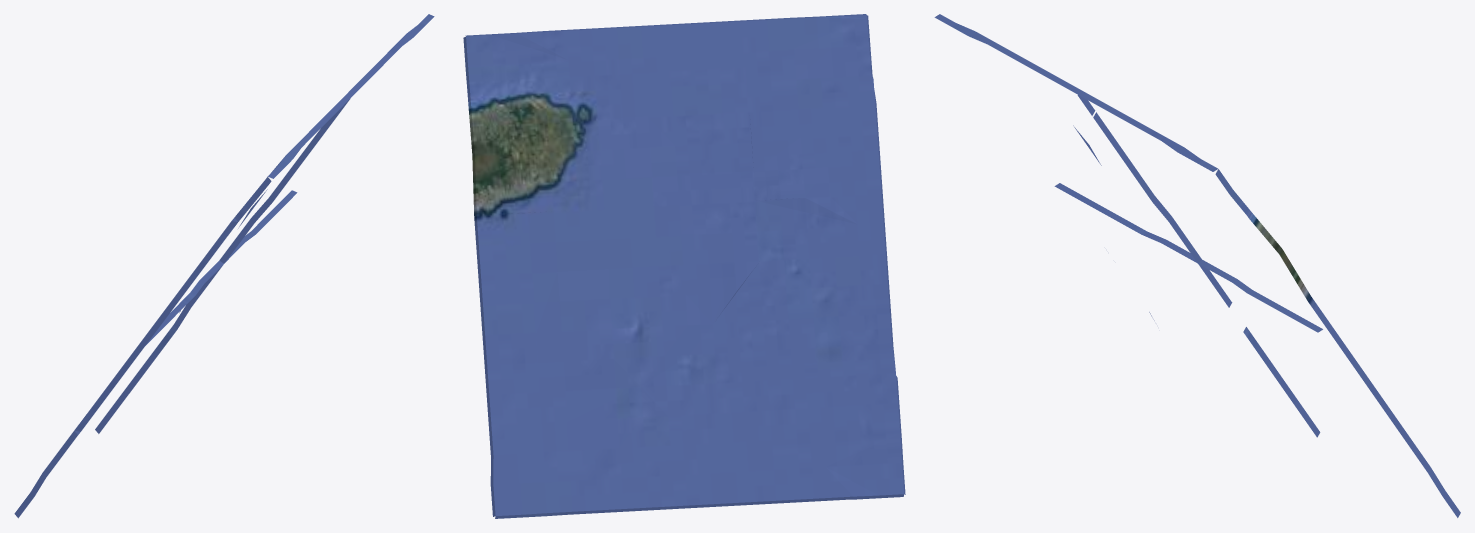
3 renders of one model, left to right at view 1: azimuth 30°, elevation 25°; view 2: azimuth 150°, elevation 25°; view 3: azimuth 270°, elevation 25°, orthographic. The views are drawn at different scales.
Size of the model in its own units: 158206 by 133324 by 149554.
Materials: 1 (1 with a texture image).
